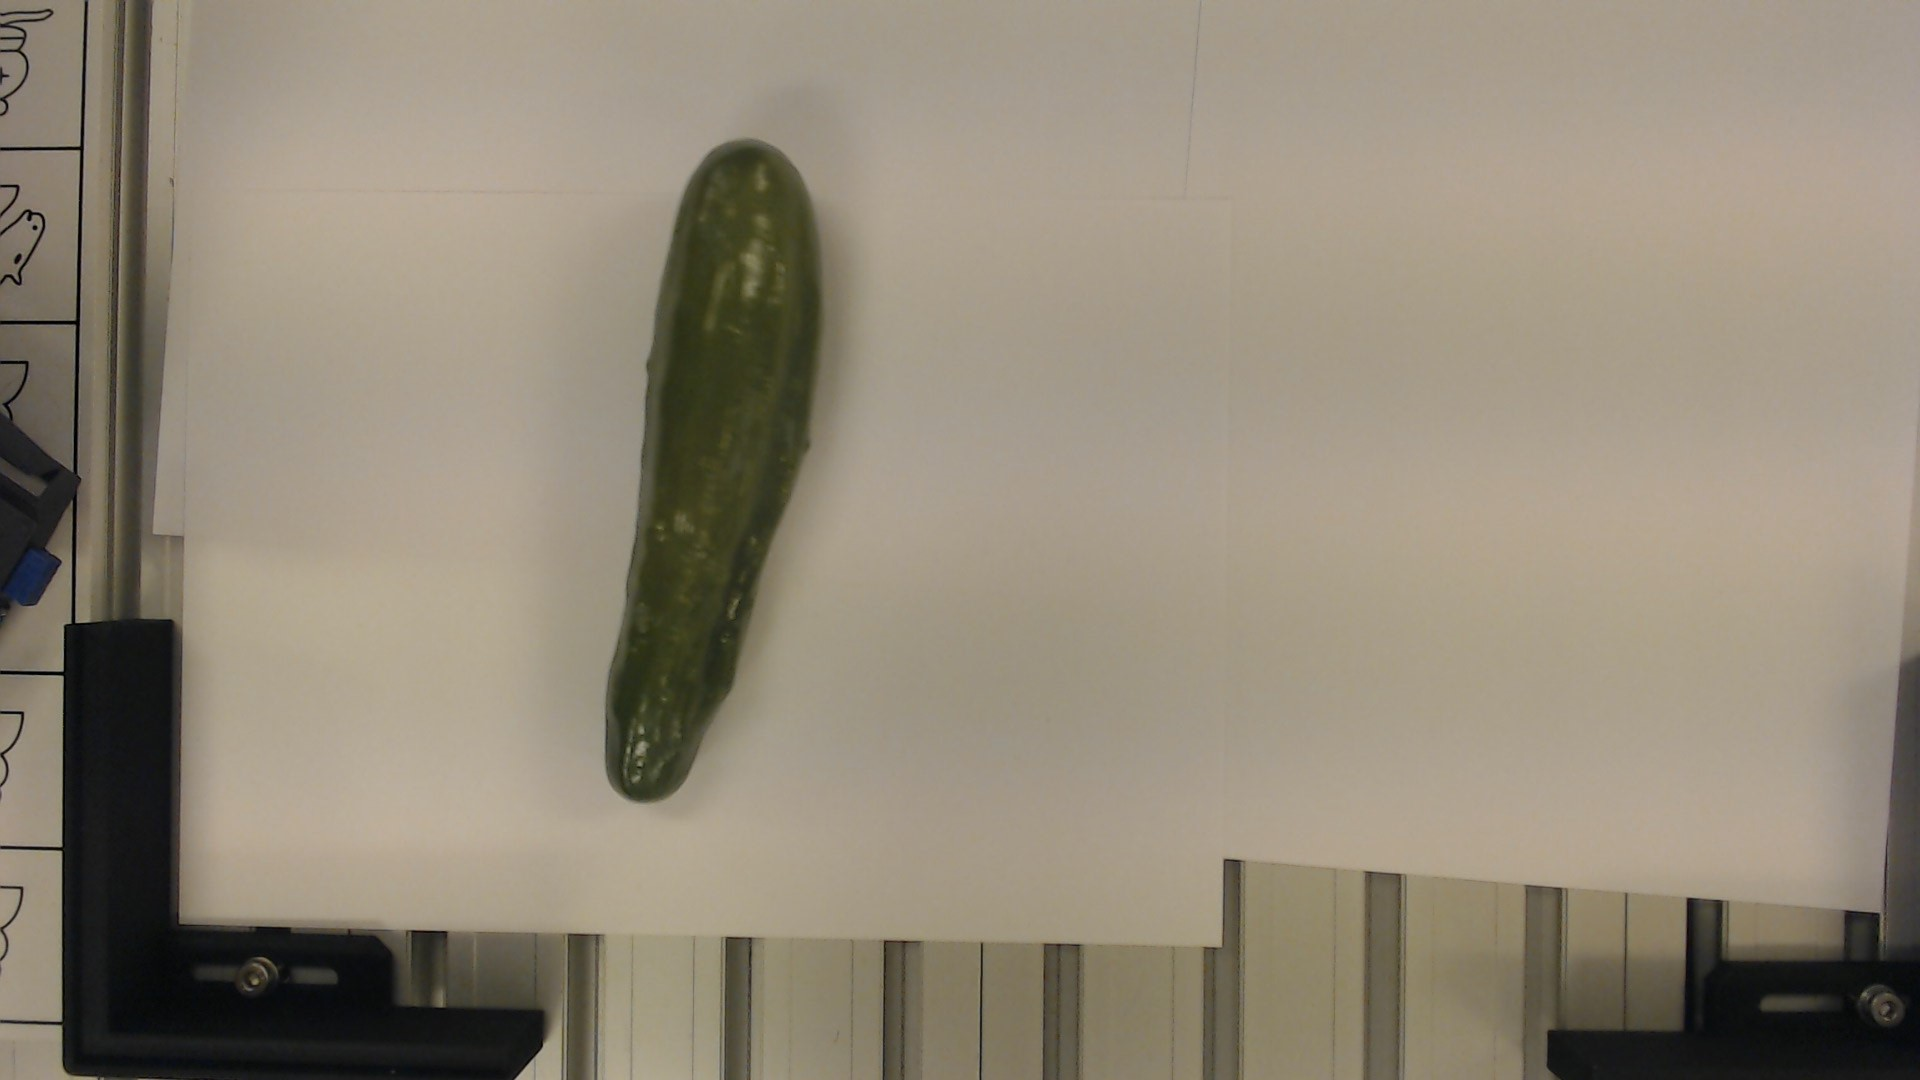Cucumber: (596, 136, 827, 807)
